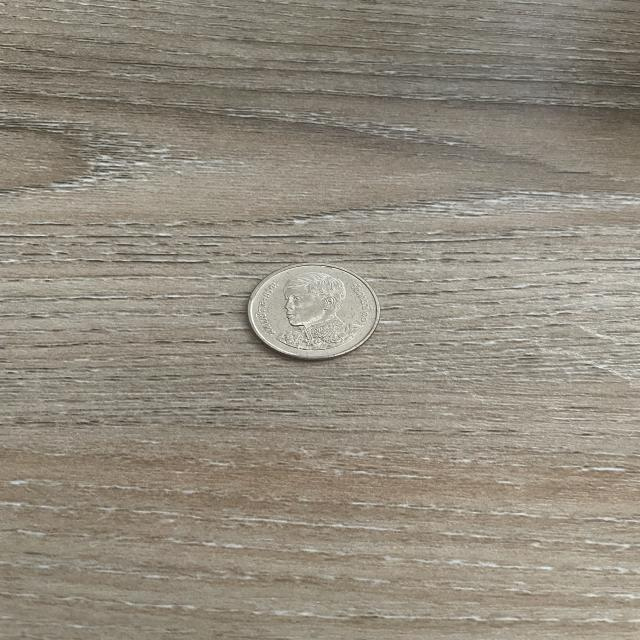1 Bath: (239, 254, 392, 371)
